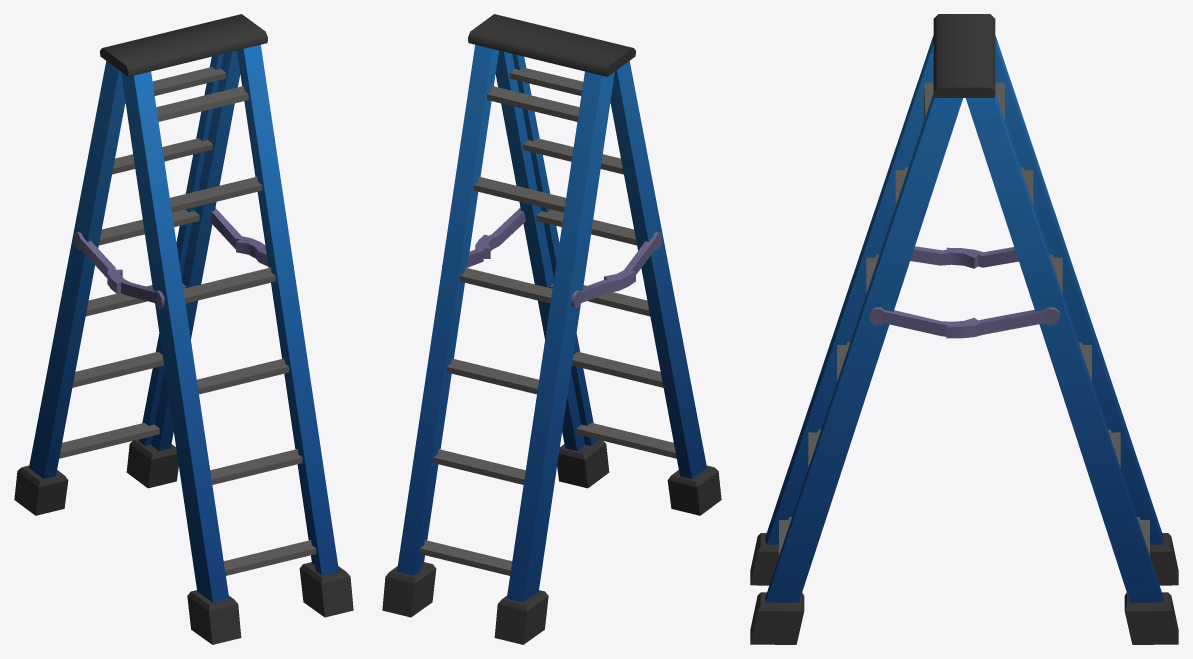
Rendered from Ladder_1_2.fbx.
The picture shows the model from 3 angles, left to right: view 1: azimuth 30°, elevation 25°; view 2: azimuth 150°, elevation 25°; view 3: azimuth 270°, elevation 25°; orthographic projection. The views are drawn at different scales.
Visible parts, largest first — view 1: Ladder_1_2; view 2: Ladder_1_2; view 3: Ladder_1_2.
Boxes of the visible parts, x1,y1,x2,y2 form: Ladder_1_2: (14, 14, 353, 644); Ladder_1_2: (382, 14, 721, 644); Ladder_1_2: (750, 14, 1178, 644).
Bounding box in the file's own units: 55.92 × 182 × 127.
